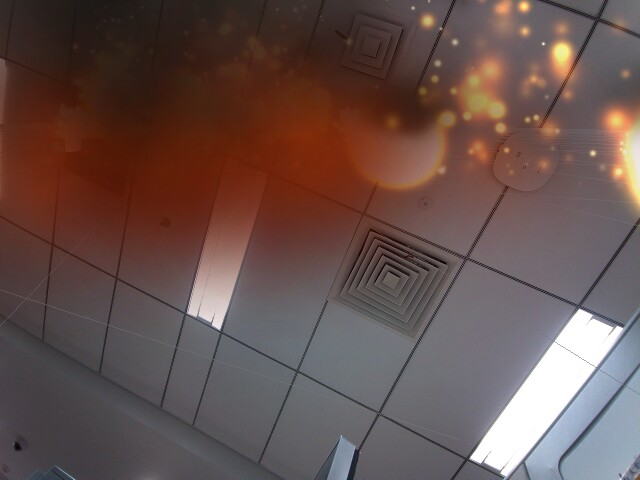fire: (348, 92, 451, 198)
